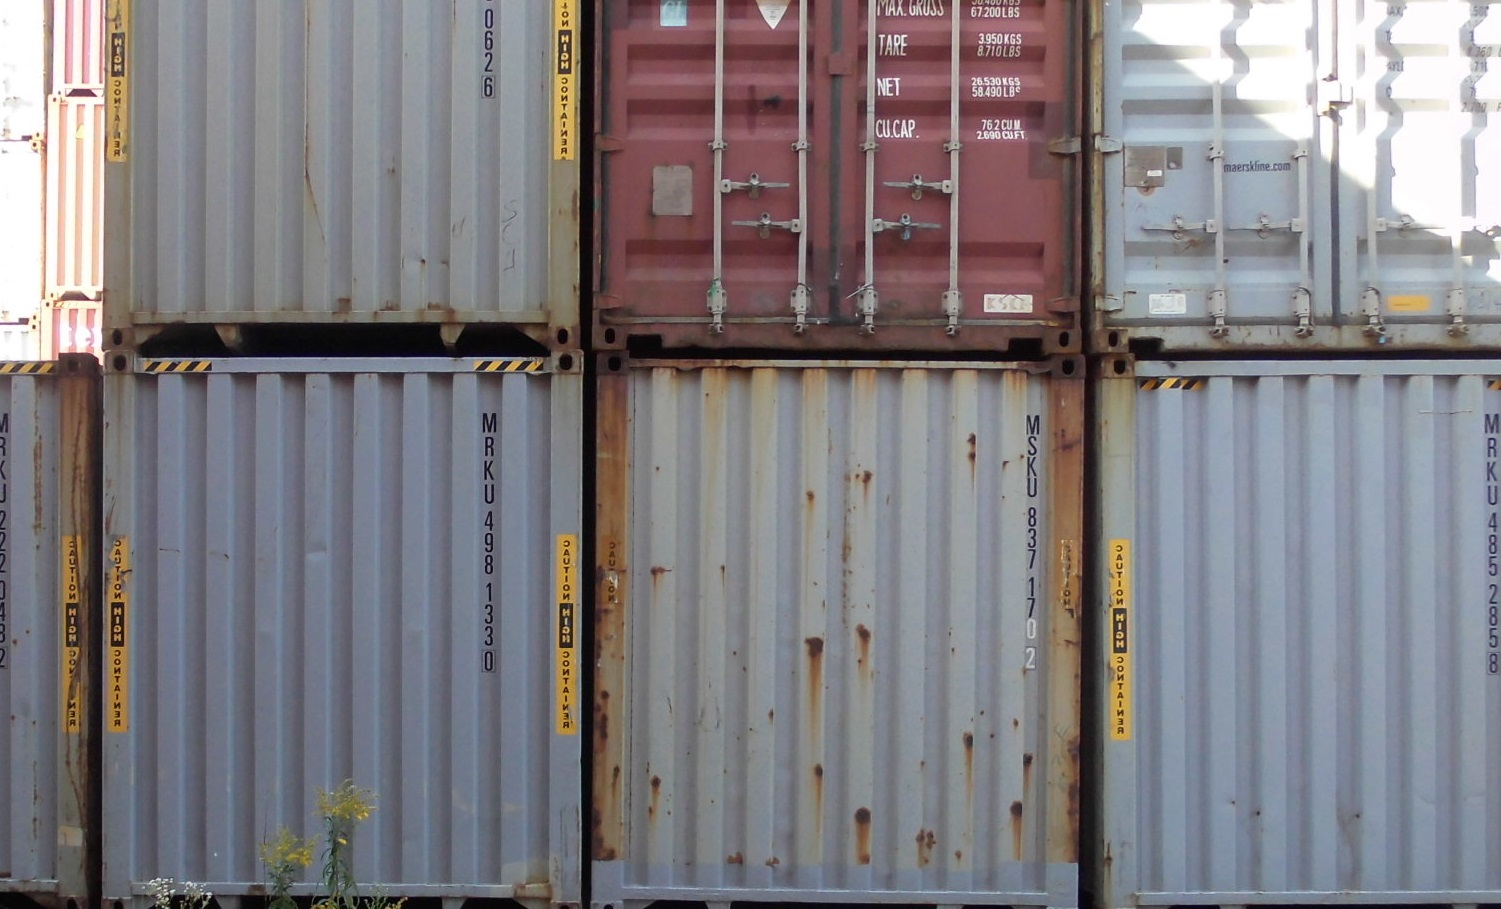container_door: (594, 1, 1087, 354), (1089, 1, 1500, 351)
container_no_door: (100, 361, 577, 909), (598, 361, 1075, 909), (1102, 359, 1500, 909), (98, 5, 583, 358)
